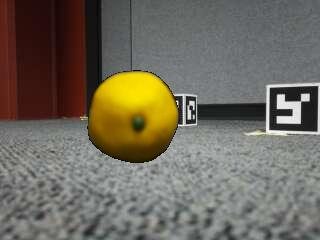lemon: (90, 73, 179, 164)
